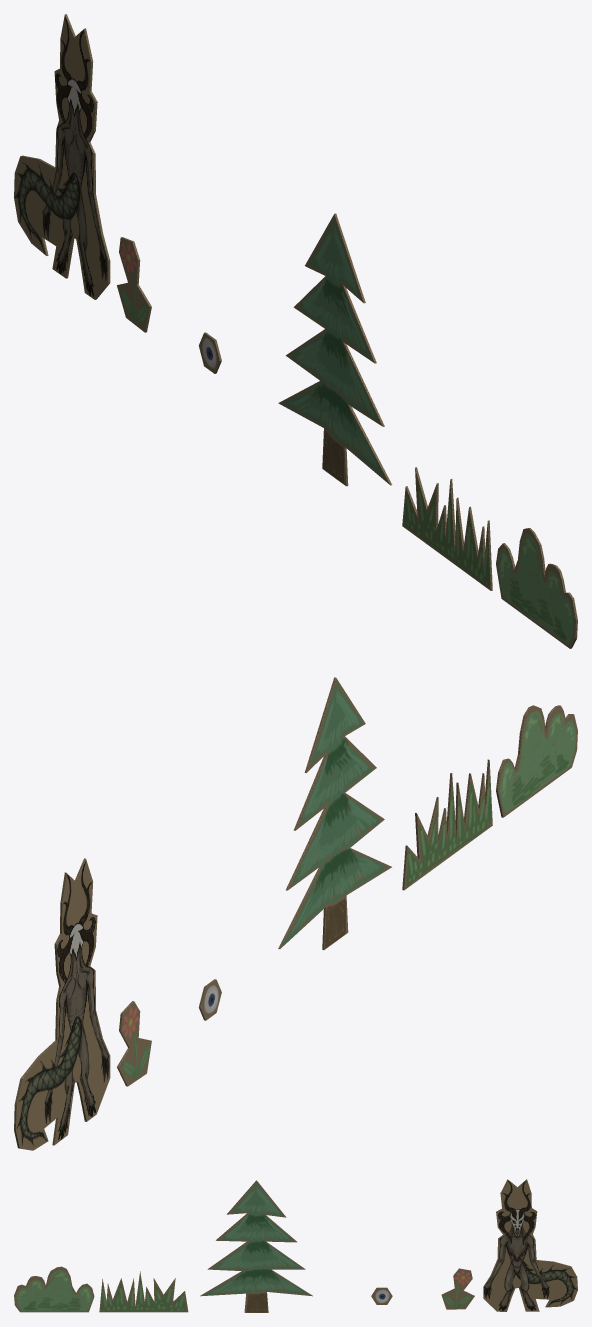
Rendered from Enviro n tanjan monsu.fbx.
3 views of the same model, one above another, from view 1: azimuth 30°, elevation 25°; view 2: azimuth 150°, elevation 25°; view 3: azimuth 270°, elevation 25° (orthographic). The views are drawn at different scales.
Parts seen in each view (by area): view 1: Monster1_Mesh, Tree_Mesh, Bush_Mesh, Grass_Mesh, Flower_Mesh; view 2: Monster1_Mesh, Tree_Mesh, Bush_Mesh, Grass_Mesh, Flower_Mesh, Eye_Mesh; view 3: Monster1_Mesh, Tree_Mesh, Bush_Mesh, Grass_Mesh, Flower_Mesh, Eye_Mesh.
Part boxes in pixels (x1,y1,x2,y2): Monster1_Mesh: (14, 14, 110, 299); Tree_Mesh: (278, 213, 392, 486); Bush_Mesh: (496, 528, 577, 648); Grass_Mesh: (402, 467, 492, 590); Flower_Mesh: (117, 237, 151, 332); Monster1_Mesh: (14, 858, 110, 1150); Tree_Mesh: (278, 677, 391, 949); Bush_Mesh: (496, 705, 577, 817); Grass_Mesh: (402, 759, 492, 890); Flower_Mesh: (117, 1001, 151, 1086); Eye_Mesh: (198, 979, 221, 1020); Monster1_Mesh: (483, 1179, 577, 1311); Tree_Mesh: (200, 1180, 312, 1312); Bush_Mesh: (14, 1266, 94, 1312); Grass_Mesh: (99, 1271, 188, 1312); Flower_Mesh: (441, 1268, 474, 1309); Eye_Mesh: (371, 1287, 392, 1304).
Size of the model in its own units: 4.03 by 391 by 1499.
Materials: 2 (2 with a texture image).
